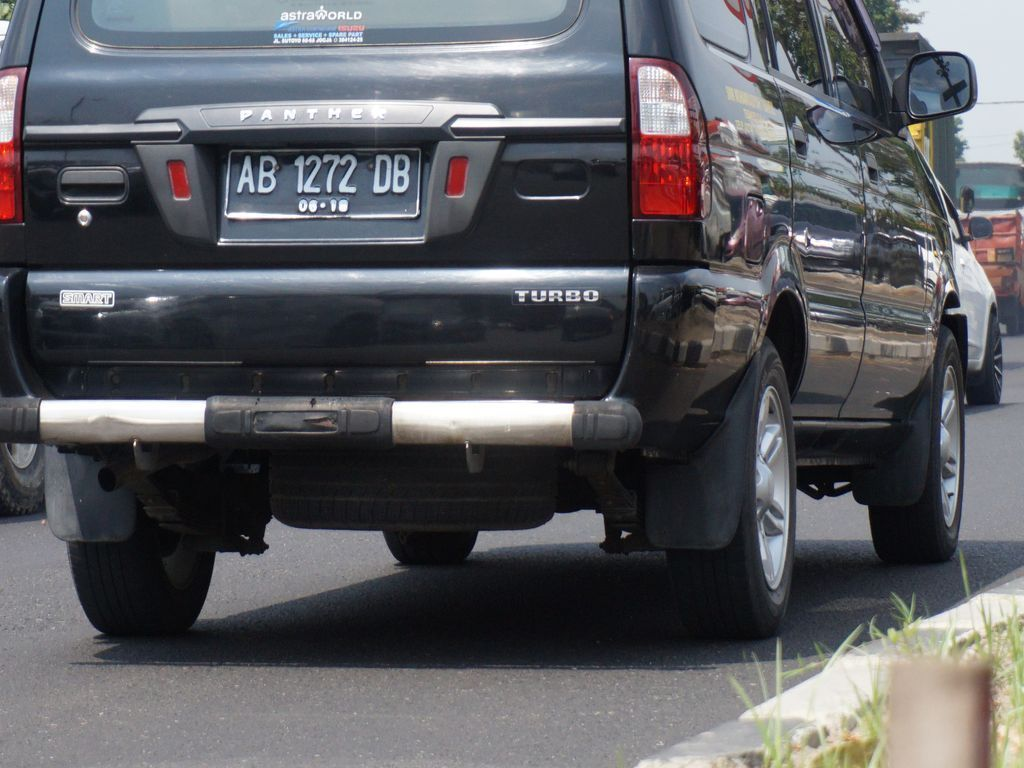plate: (233, 152, 413, 212)
